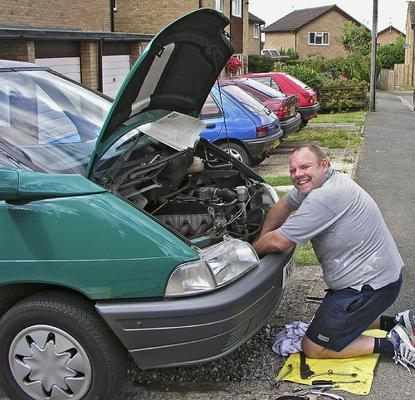person: (253, 146, 415, 375)
